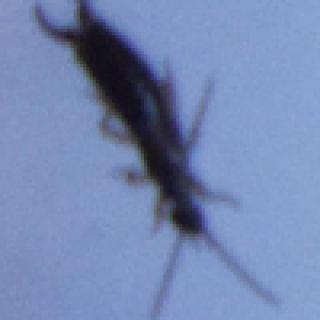earwig: (31, 0, 290, 317)
